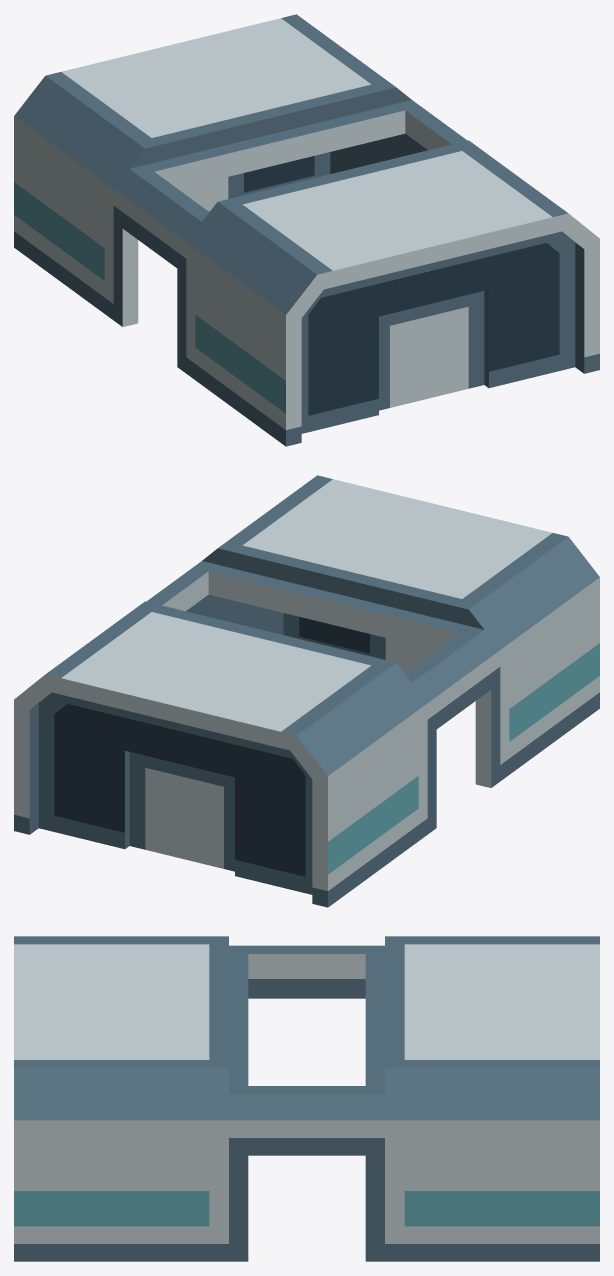
Rendered from hangar_largeA.glb.
3 renders of one model, top to bottom at view 1: azimuth 30°, elevation 25°; view 2: azimuth 150°, elevation 25°; view 3: azimuth 270°, elevation 25°, orthographic. The views are drawn at different scales.
Parts seen in each view (by area): view 1: hangar_largeA, gate (×2); view 2: hangar_largeA, gate (×2); view 3: hangar_largeA.
Part boxes in pixels (x1=…): hangar_largeA: x1=14, y1=14, x2=599, y2=446; gate (×2): x1=178, y1=152, x2=575, y2=433; hangar_largeA: x1=14, y1=475, x2=599, y2=907; gate (×2): x1=38, y1=613, x2=435, y2=894; hangar_largeA: x1=14, y1=936, x2=599, y2=1261.
Bounding box in the file's own units: 2 × 1 × 3.
